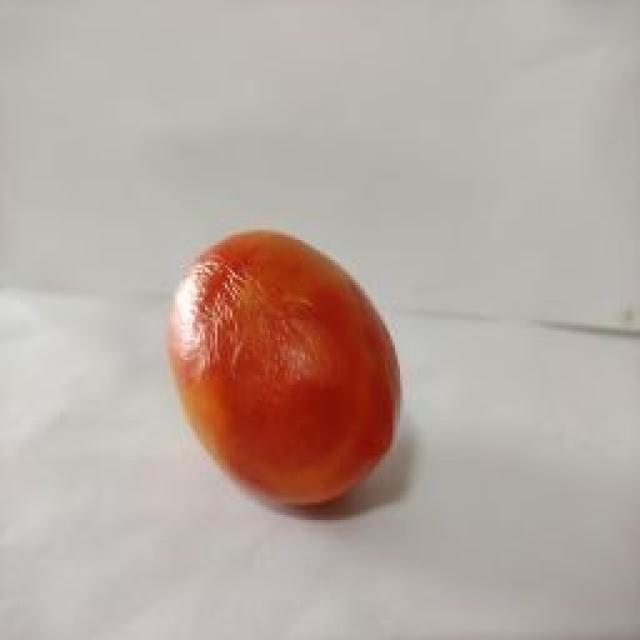overripe: (159, 222, 409, 507)
